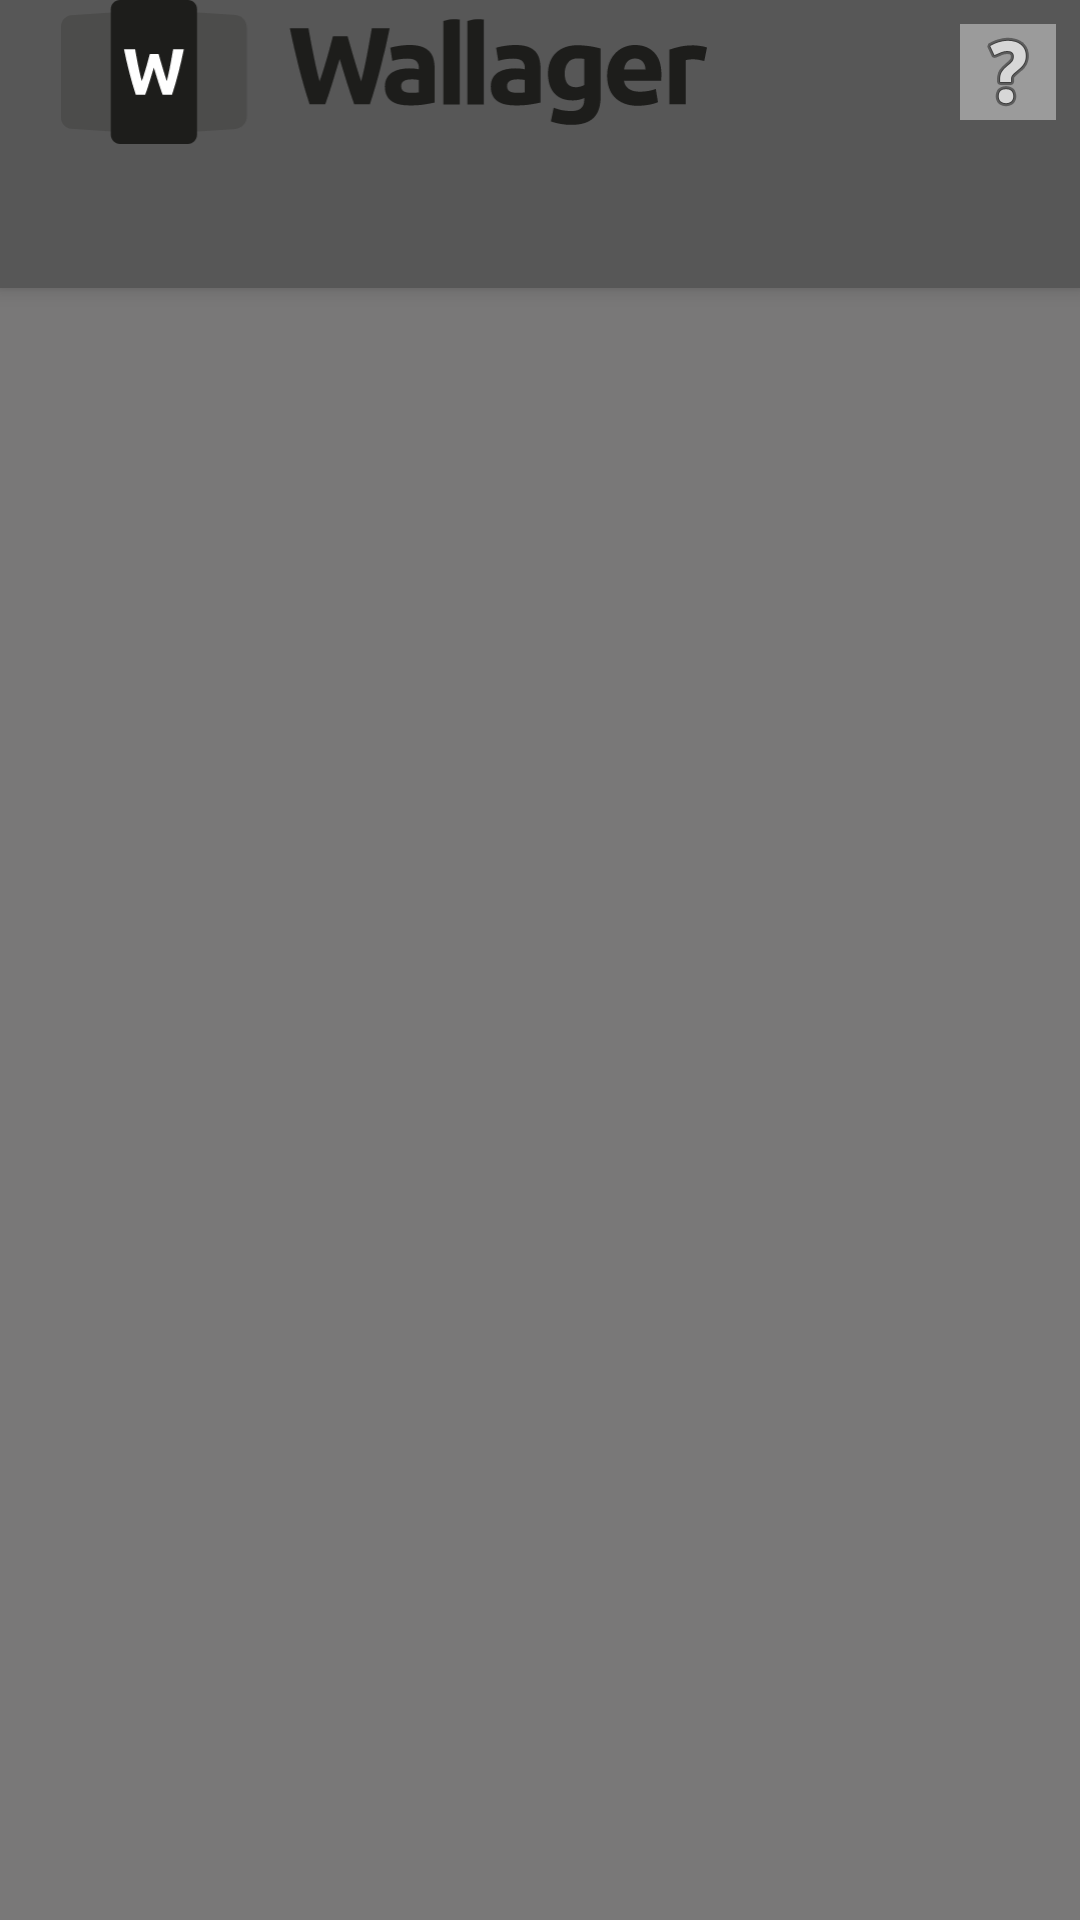

Named icons in this screenshot (1080px×1920px) and their centers, [x,y]:
help: [1008,72]
